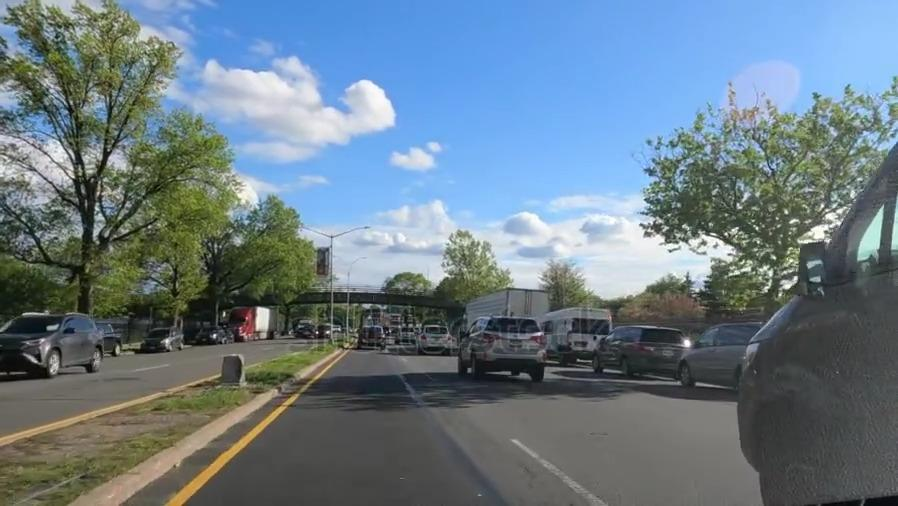car: (1, 315, 104, 376), (461, 320, 547, 375), (597, 325, 679, 372), (681, 328, 747, 382), (141, 329, 183, 351), (416, 326, 451, 352), (358, 325, 385, 350), (198, 327, 221, 342), (397, 327, 414, 342)
truck: (458, 291, 551, 325), (230, 309, 279, 339)
van: (744, 153, 898, 493), (540, 310, 605, 353)
wheel: (752, 411, 839, 506)
